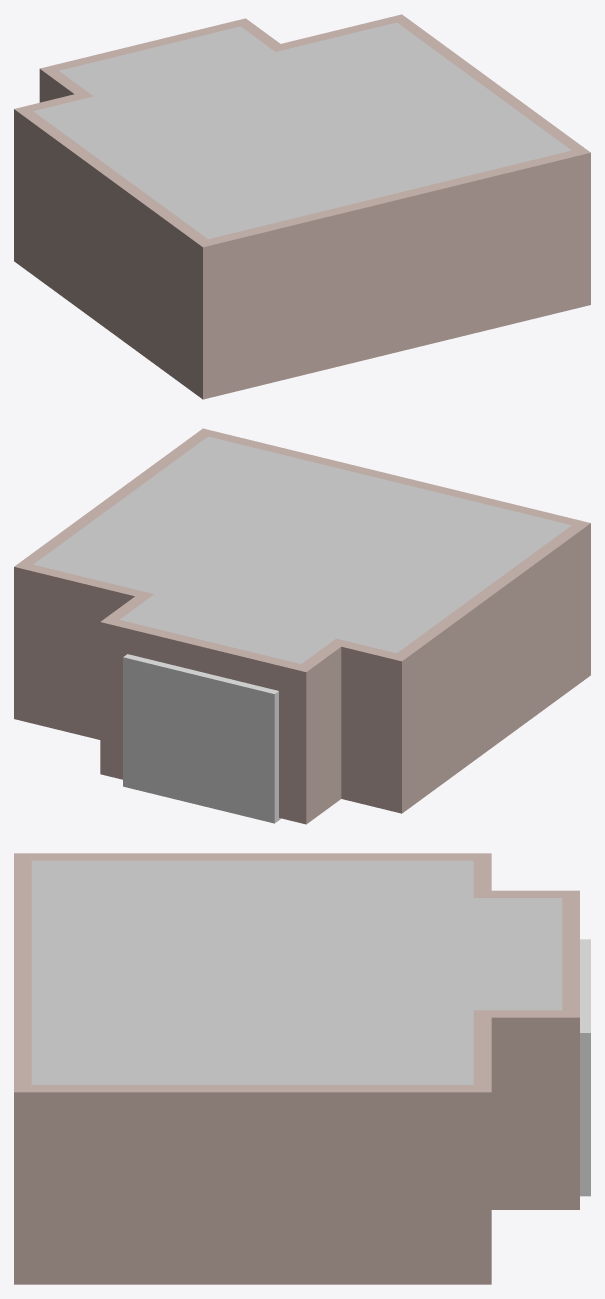
Rendered from ExportedBlenderFBXFile.fbx.
The picture shows the model from 3 angles, top to bottom: view 1: azimuth 30°, elevation 25°; view 2: azimuth 150°, elevation 25°; view 3: azimuth 270°, elevation 25°; orthographic projection. The views are drawn at different scales.
Parts seen in each view (by area): view 1: Room, Ceiling; view 2: Room, Ceiling, CTRL_Hole; view 3: Room, Ceiling, CTRL_Hole.
Boxes of the visible parts, x1=… form: Room: x1=14, y1=14, x2=590, y2=399; Ceiling: x1=33, y1=22, x2=571, y2=239; Room: x1=14, y1=428, x2=590, y2=824; Ceiling: x1=33, y1=436, x2=571, y2=663; CTRL_Hole: x1=123, y1=654, x2=281, y2=823; Room: x1=14, y1=853, x2=579, y2=1284; Ceiling: x1=31, y1=860, x2=562, y2=1084; CTRL_Hole: x1=580, y1=939, x2=590, y2=1196.
Bounding box in the file's own units: 6.4 × 2.44 × 6.53.
